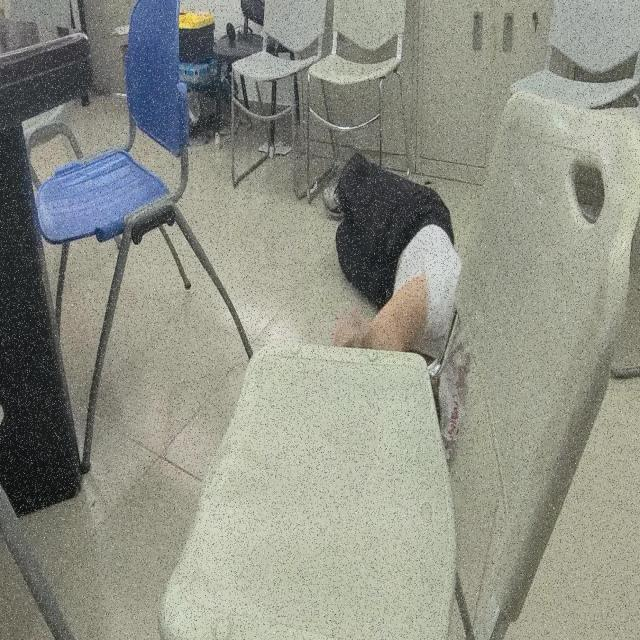fall: (334, 154, 468, 370)
